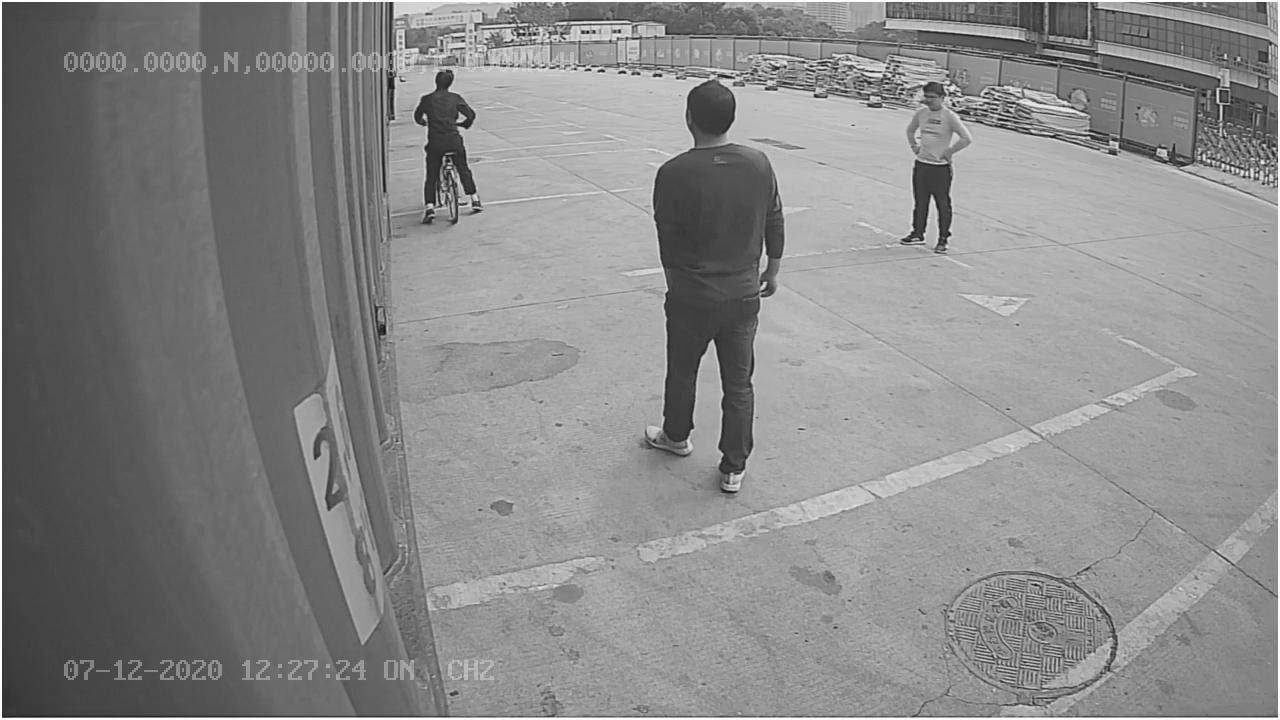person: (638, 75, 790, 499)
